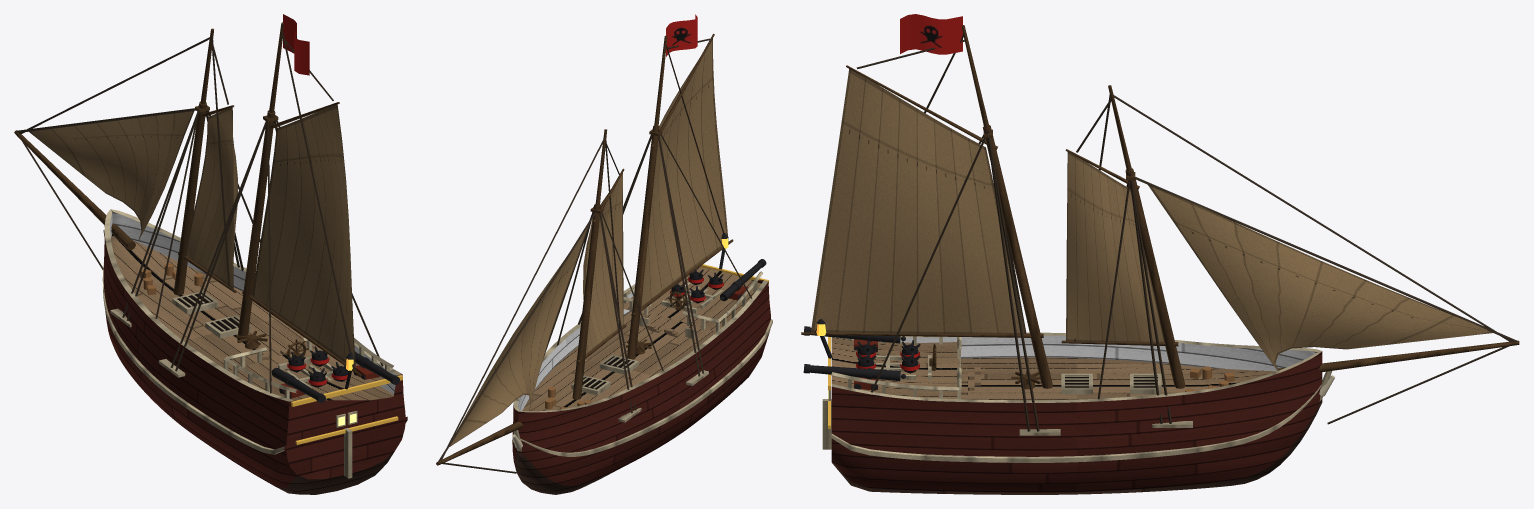
File: brethren_runner.glb
3 views of the same model, side by side, from view 1: azimuth 30°, elevation 25°; view 2: azimuth 150°, elevation 25°; view 3: azimuth 270°, elevation 25° (orthographic). The views are drawn at different scales.
Visible parts, largest first — view 1: Hull, Sail1_0, Rigging, Jib, Sail0_0, Guns0, Flag; view 2: Hull, Sail1_0, Rigging, Jib, Sail0_0, Flag, Guns0; view 3: Hull, Sail1_0, Jib, Rigging, Sail0_0, Flag, Guns0.
Part boxes in pixels (x1,y1,x2,y2): Hull: [102, 209, 407, 494]; Sail1_0: [253, 104, 355, 370]; Rigging: [14, 22, 383, 393]; Jib: [29, 111, 194, 240]; Sail0_0: [186, 107, 237, 288]; Guns0: [271, 351, 399, 402]; Flag: [283, 14, 309, 75]; Hull: [512, 233, 772, 494]; Sail1_0: [641, 38, 728, 306]; Rigging: [436, 33, 751, 473]; Jib: [449, 225, 588, 446]; Sail0_0: [583, 173, 623, 354]; Flag: [666, 14, 697, 56]; Guns0: [720, 259, 766, 300]; Hull: [816, 319, 1334, 494]; Sail1_0: [811, 69, 1025, 333]; Jib: [1148, 184, 1492, 370]; Rigging: [801, 25, 1519, 431]; Sail0_0: [1066, 152, 1164, 342]; Flag: [900, 14, 962, 54]; Guns0: [803, 326, 905, 390].
Bounding box in the file's own units: 0.7028 × 1.92 × 2.71.
19 materials, 8 textured.
